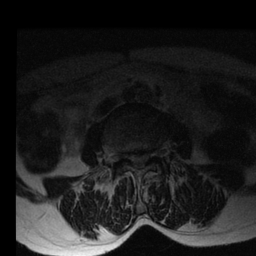CCS_stenosis: (135, 145, 142, 172)
LFS_stenosis: (149, 146, 155, 163)
LLS_stenosis: (143, 146, 149, 168)
RFS_stenosis: (123, 147, 131, 167)
RLS_stenosis: (129, 146, 135, 167)
